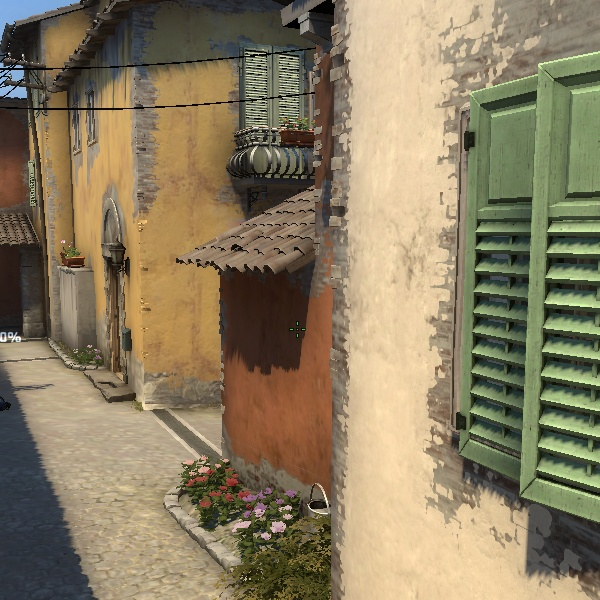t_body: (269, 114, 310, 186)
